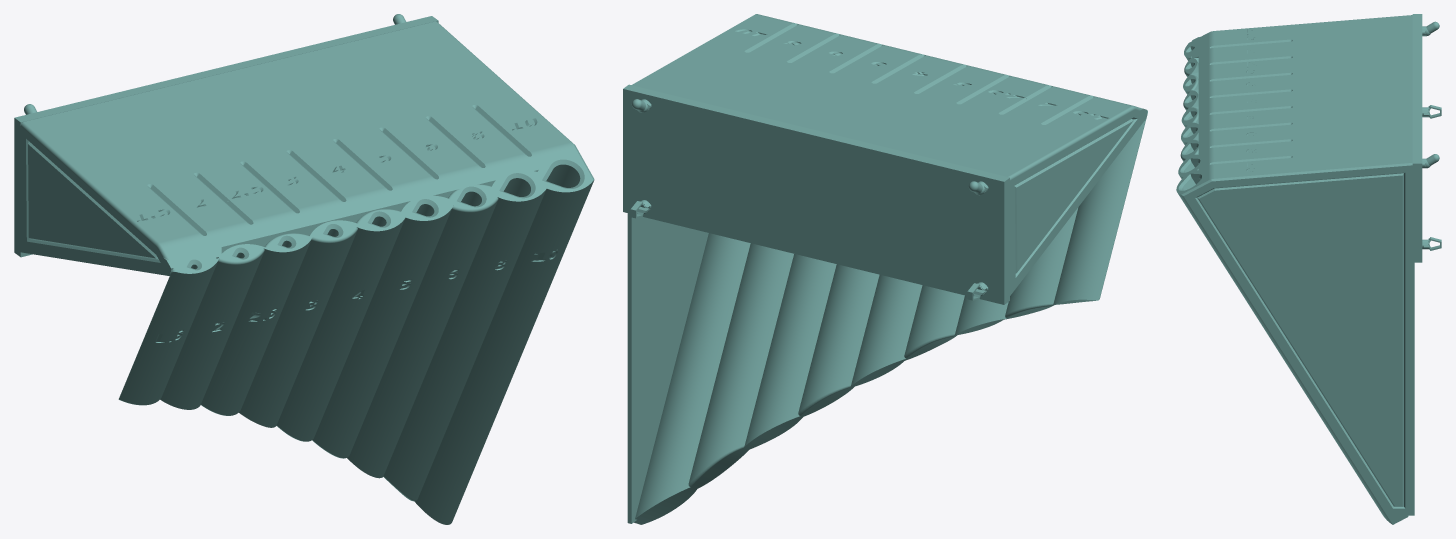
Rendered from part-hx02__v2__right-cheek__fit-pf02c9-hoop5__installed.glb.
3 views of the same model, side by side, from view 1: azimuth 30°, elevation 25°; view 2: azimuth 150°, elevation 25°; view 3: azimuth 270°, elevation 25° (orthographic). The views are drawn at different scales.
Parts seen in each view (by area): view 1: holder; view 2: holder; view 3: holder.
Boxes of the visible parts, left/top/right/bottom form: holder: left=14, top=14, right=594, bottom=524; holder: left=623, top=14, right=1147, bottom=524; holder: left=1176, top=14, right=1441, bottom=524.
Size of the model in its own units: 0.2012 by 0.227 by 0.1507.
